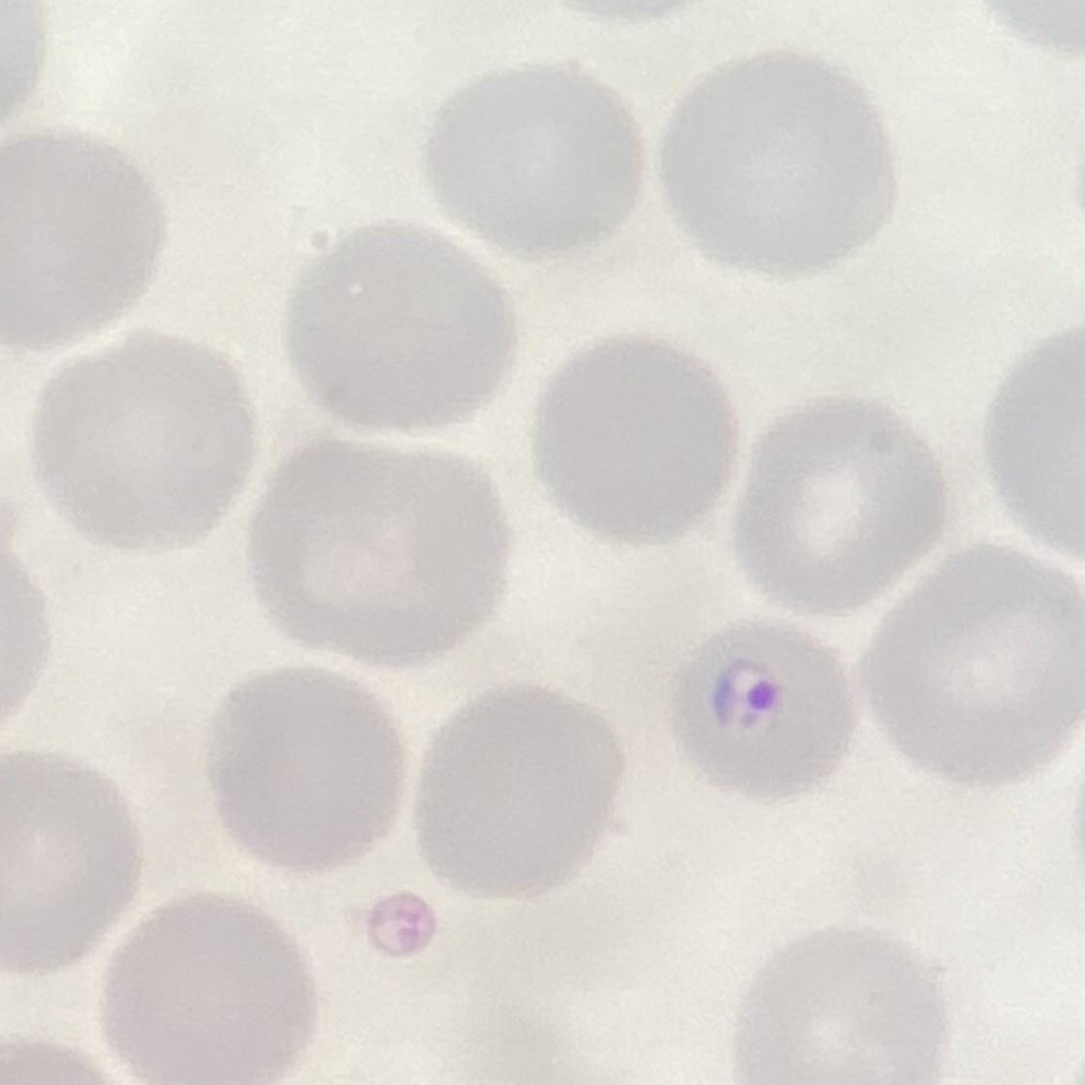Infected: (679, 615, 860, 803)
Uninfected: (246, 444, 506, 676), (659, 46, 894, 286), (860, 544, 1085, 773), (32, 328, 263, 549), (284, 214, 517, 430), (527, 331, 741, 545), (737, 402, 948, 618), (210, 670, 422, 879), (414, 686, 621, 894), (423, 62, 638, 262), (100, 893, 310, 1085), (0, 121, 172, 355), (727, 932, 963, 1085), (0, 741, 136, 984)
